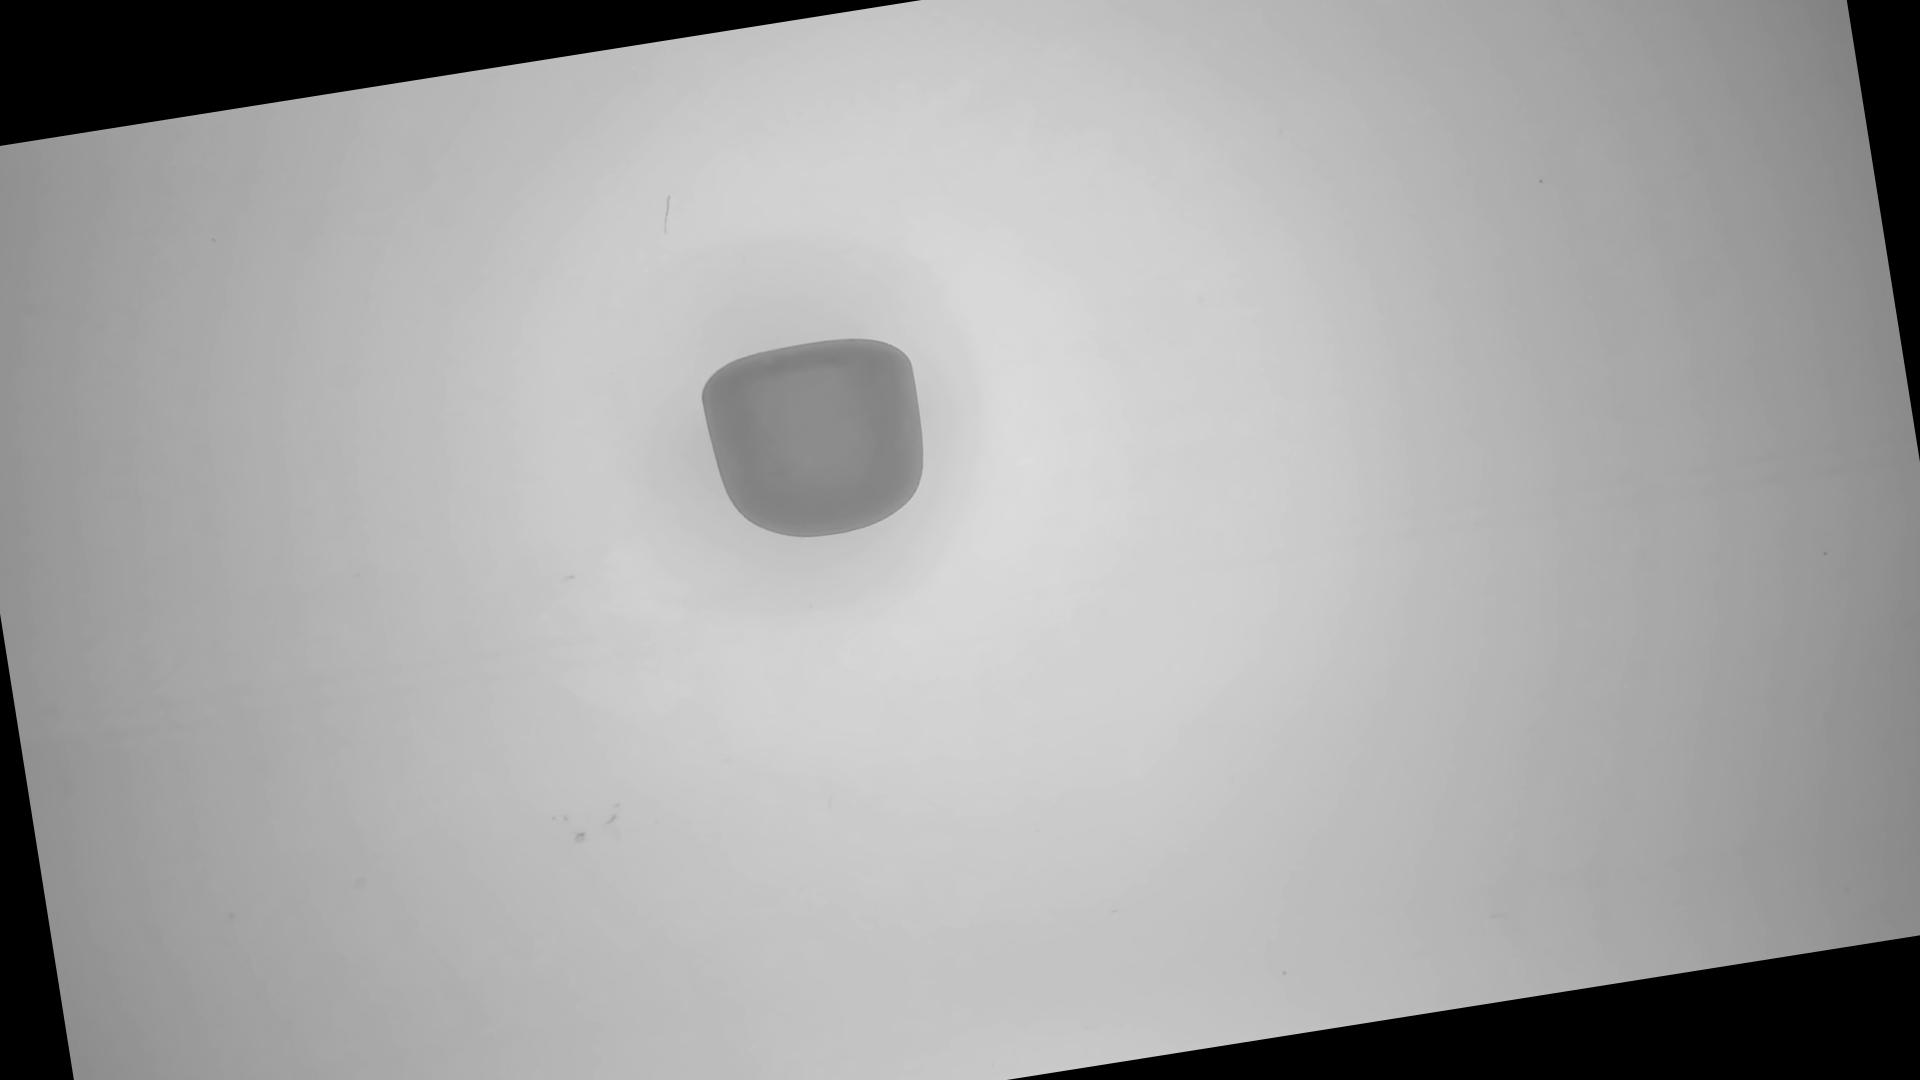normal: (694, 323, 943, 555)
